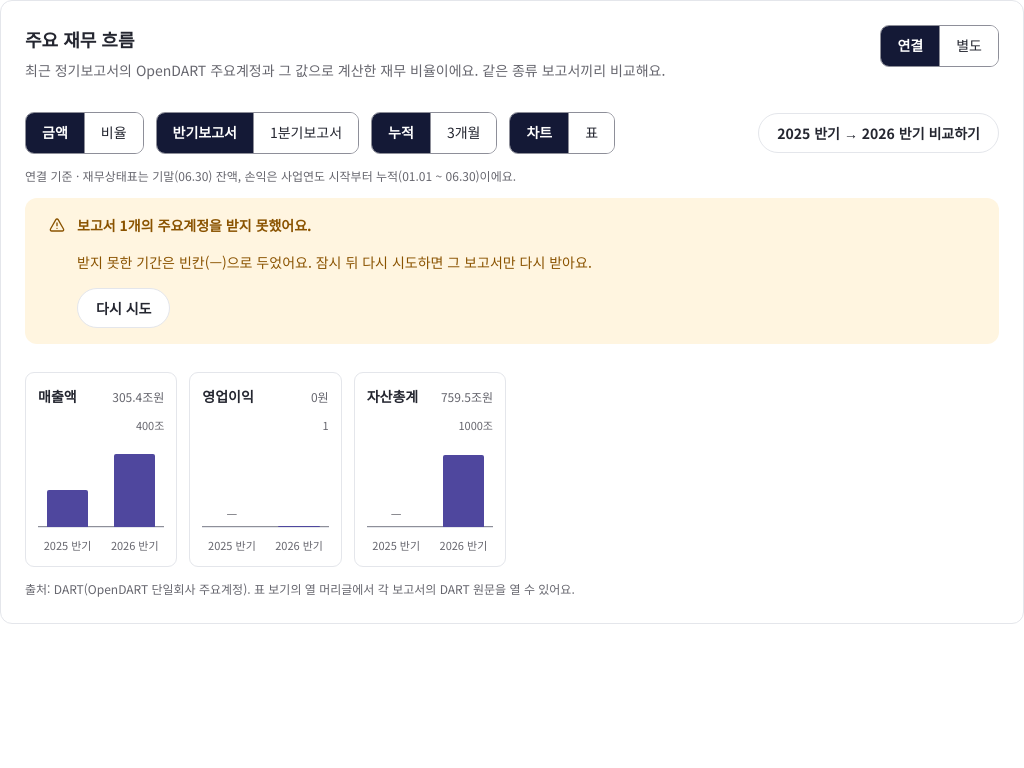
주요 재무 흐름 › 3개월 기준으로 바꾸면 손익은 3개월 금액을 보인다
Expected: the element named "손익 금액 기준" is shown, [371,112,497,154]
Click the button "3개월". click: (463, 133)
box: [430,113,496,153]
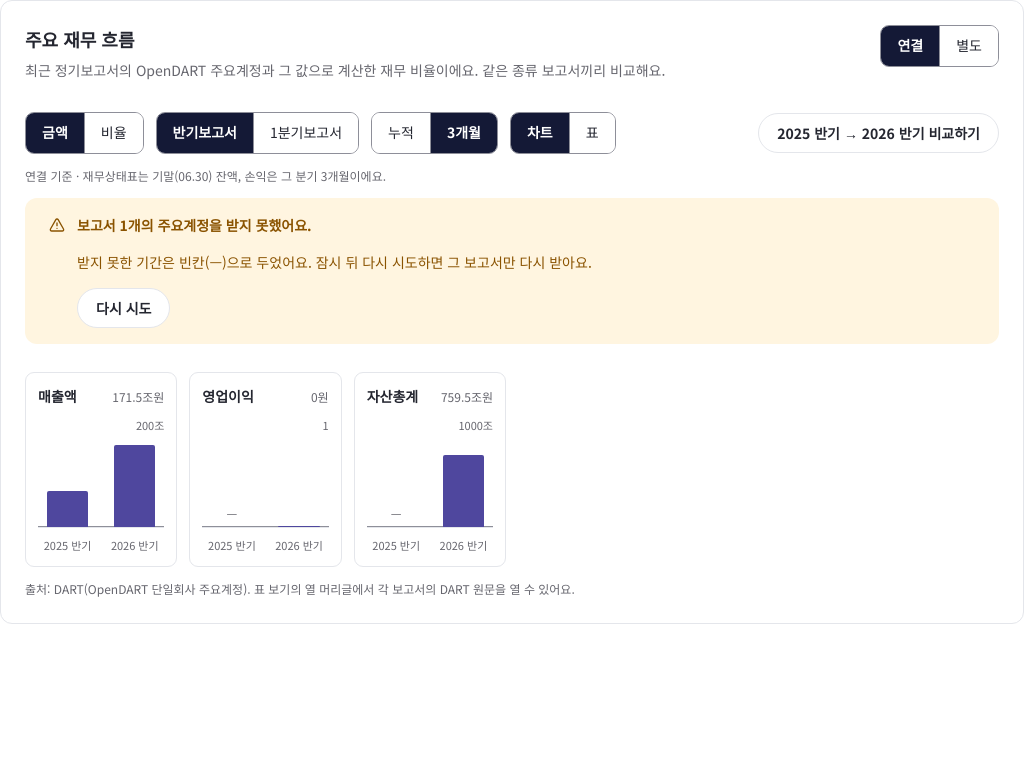
Result: the picture named "매출액: 2025 반기 74.6조원, 2026 반기 171.5조원" is shown at [38,416,164,528]
Result: the text "손익은 그 분기 3개월" is shown at [25,167,386,184]
